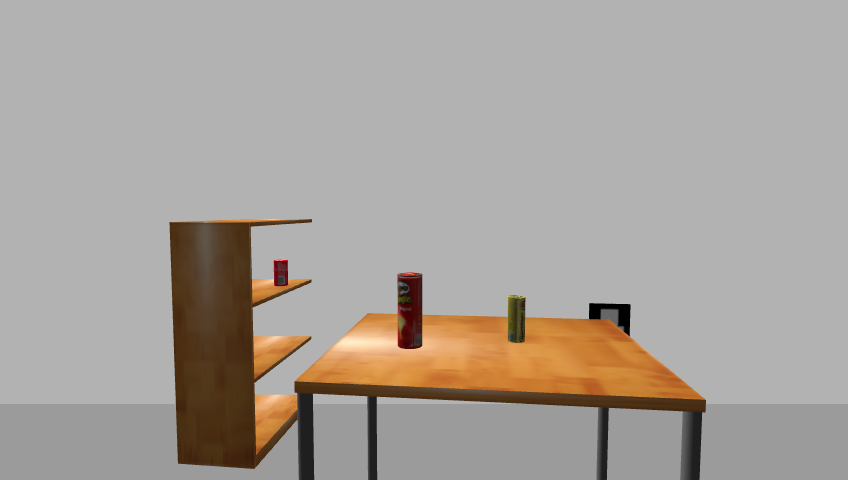aruco marker: (585, 301, 634, 339)
biscuits pack: (507, 295, 527, 345)
bookshelf: (165, 216, 316, 470)
coke can: (271, 259, 290, 287)
dinner table: (290, 311, 713, 479)
pringles can: (395, 272, 424, 351)
